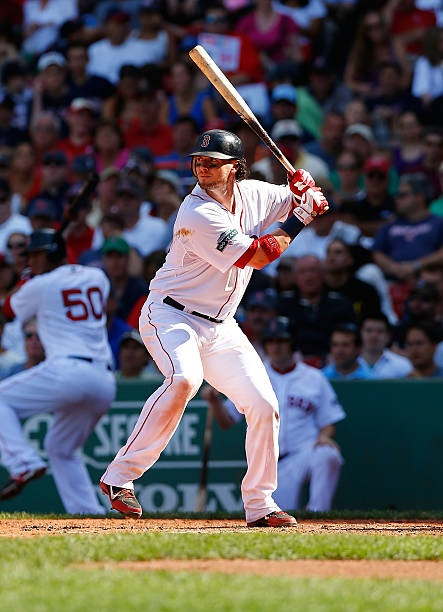bita: (187, 46, 312, 186)
